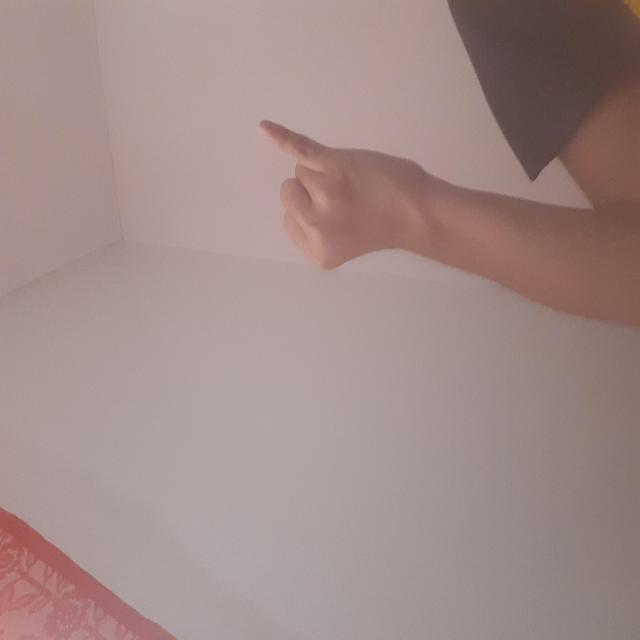J: (225, 88, 469, 333)
